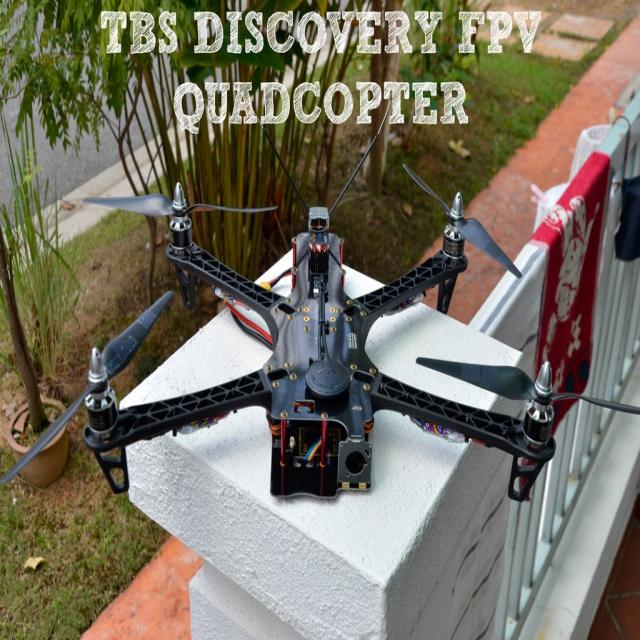drone: (19, 135, 640, 534)
